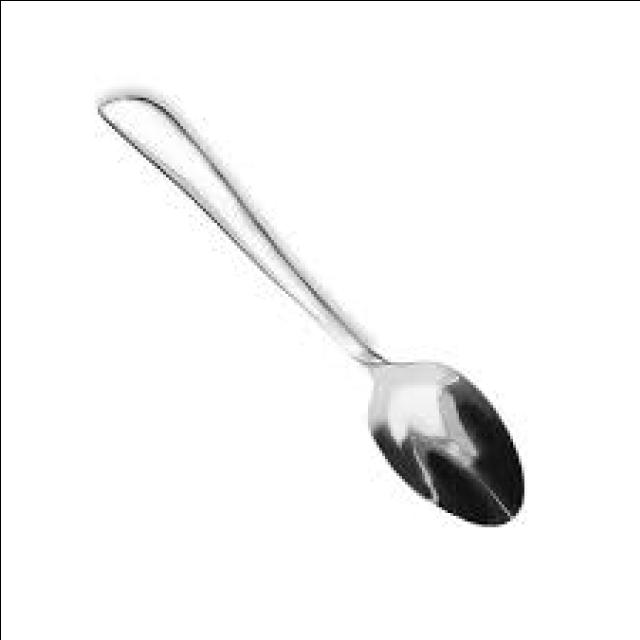spoon: (94, 94, 521, 523)
